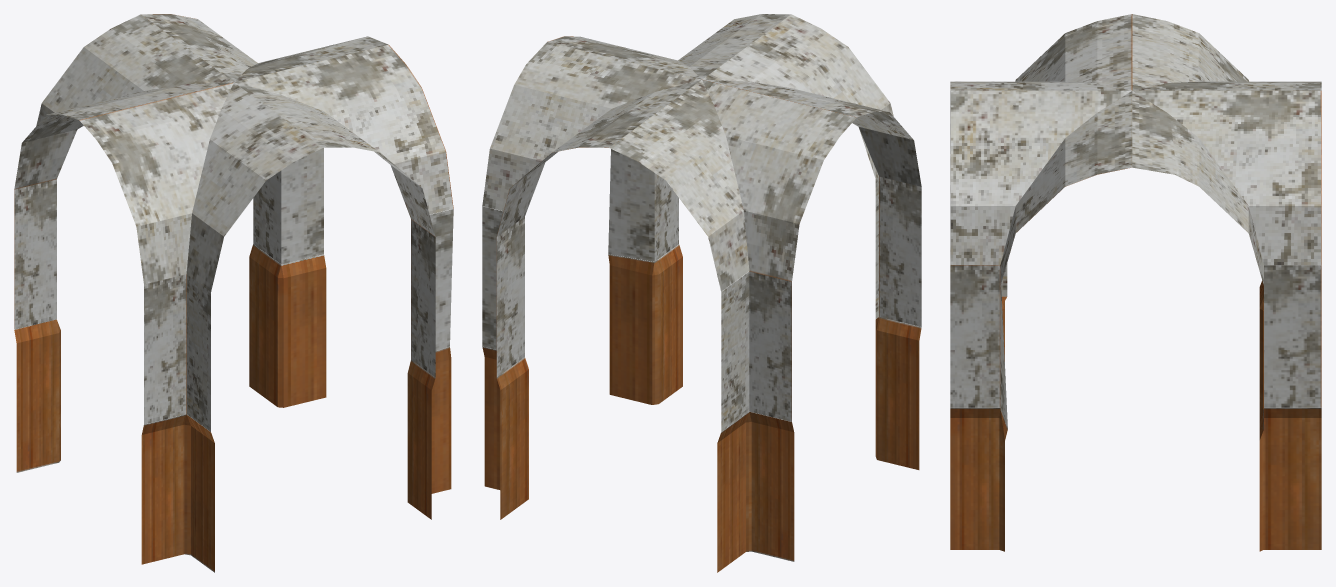
File: 4wayHallwayPiece.fbx
3 views of the same model, side by side, from view 1: azimuth 30°, elevation 25°; view 2: azimuth 150°, elevation 25°; view 3: azimuth 270°, elevation 25° (orthographic).
Parts seen in each view (by area): view 1: 4WaySection; view 2: 4WaySection; view 3: 4WaySection.
Boxes of the visible parts, x1,y1,x2,y2 form: 4WaySection: (14,14,453,572); 4WaySection: (482,14,921,572); 4WaySection: (950,14,1321,551).
Bounding box in the file's own units: 200 × 246 × 204.
